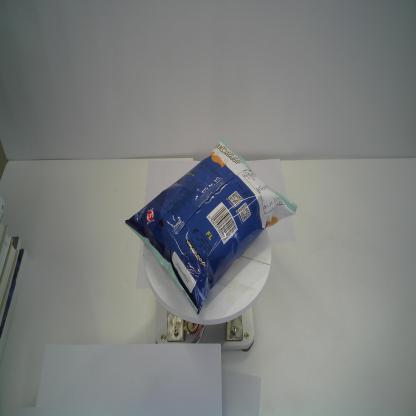Puffed Food: (124, 138, 298, 316)
